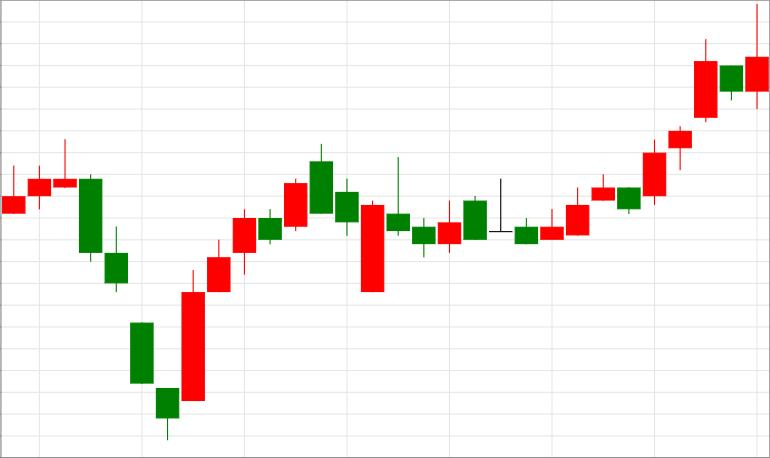shooting_star_fall: (540, 5, 770, 241)
three_white_soldiers_rise: (79, 174, 256, 441)
